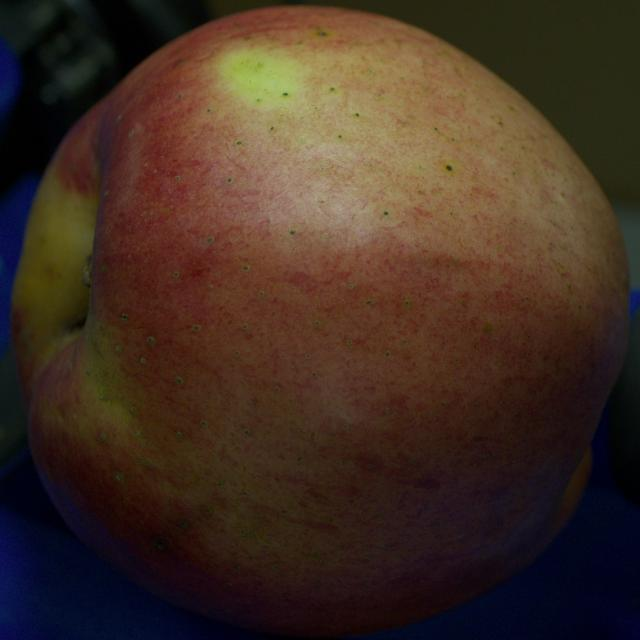apple: (12, 7, 629, 636)
pest: (155, 540, 164, 549), (446, 165, 452, 170)
